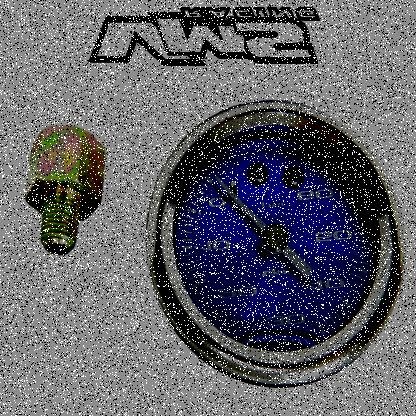needle: (212, 173, 268, 232)
